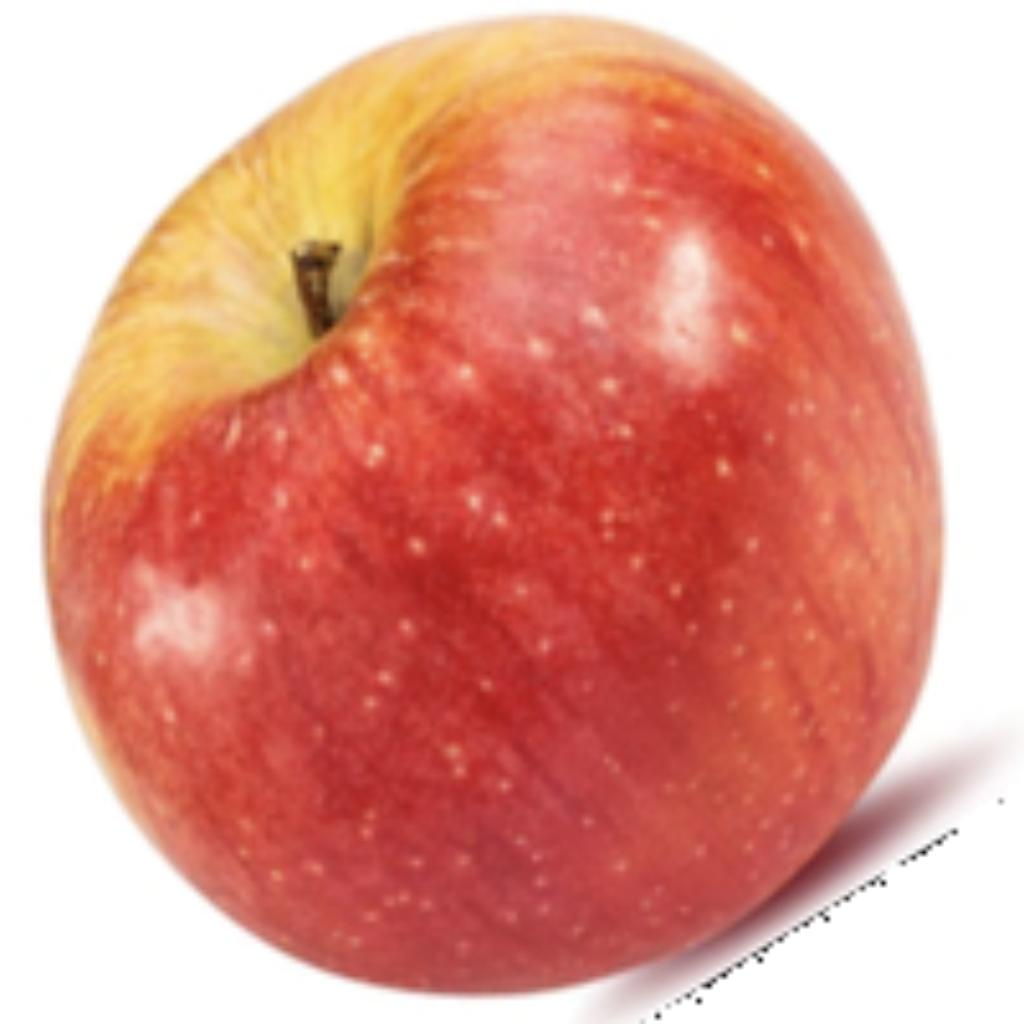apple: (31, 5, 1019, 1019)
